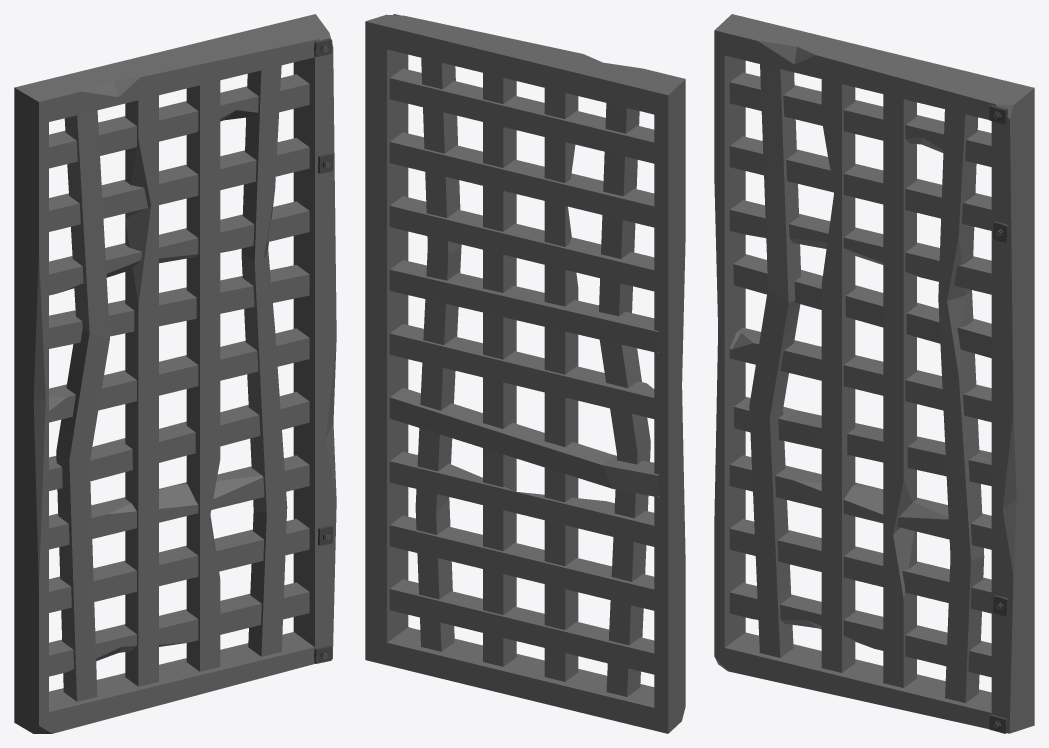
Rendered from SM_Prop_Trap_Pit_01_Door_L.fbx.
3 views of the same model, side by side, from view 1: azimuth 30°, elevation 25°; view 2: azimuth 150°, elevation 25°; view 3: azimuth 330°, elevation 25° (orthographic).
Parts seen in each view (by area): view 1: SM_Prop_Trap_Pit_Door_L; view 2: SM_Prop_Trap_Pit_Door_L; view 3: SM_Prop_Trap_Pit_Door_L.
Part boxes in pixels (left/top/right/bottom): SM_Prop_Trap_Pit_Door_L: left=14, top=14, right=336, bottom=733; SM_Prop_Trap_Pit_Door_L: left=365, top=14, right=685, bottom=733; SM_Prop_Trap_Pit_Door_L: left=714, top=14, right=1034, bottom=733.
Size of the model in its own units: 0.0237 by 0.0477 by 0.00367.
